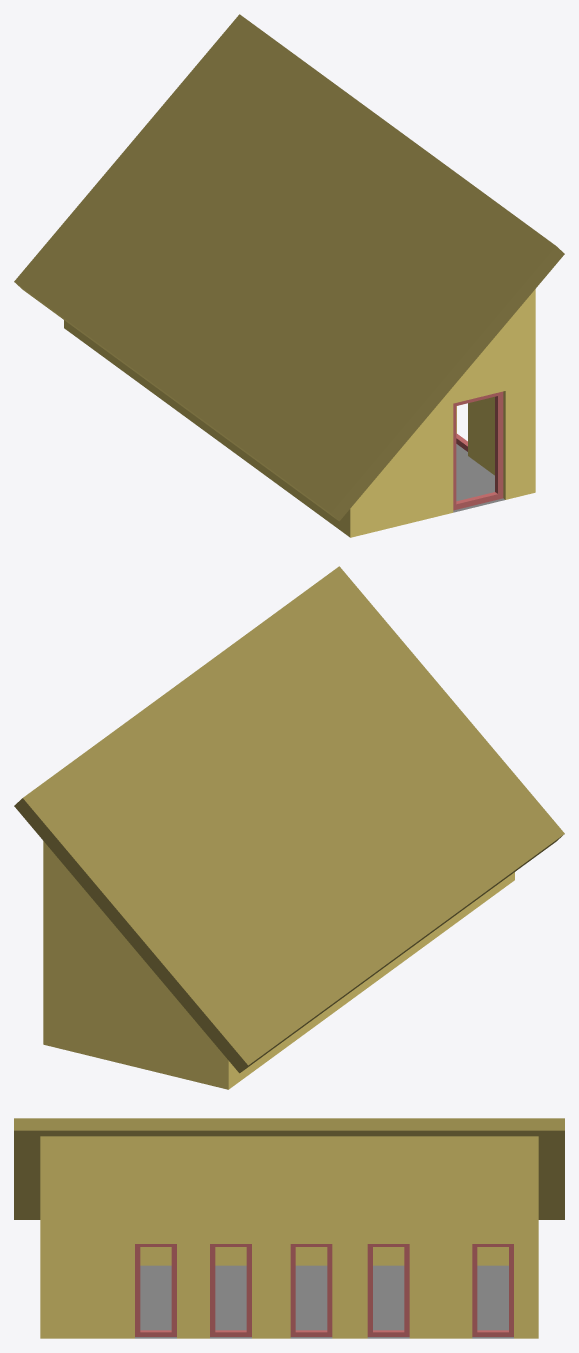
The model's file is result.glb.
The picture shows the model from 3 angles, top to bottom: view 1: azimuth 30°, elevation 25°; view 2: azimuth 150°, elevation 25°; view 3: azimuth 270°, elevation 25°; orthographic projection. The views are drawn at different scales.
Visible parts, largest first — view 1: 25782381-e7e2-43e0-9e87-715b7b359c5b__undefined, 5b07f644-e168-4a8a-bf53-29304d67ada4__undefined, adaa5149-9f0a-40ed-a261-3910334ac167__Box, 55f7afd8-d7cc-4679-b5c3-2c23fd5dd477__Plane_14; view 2: 25782381-e7e2-43e0-9e87-715b7b359c5b__undefined, 5b07f644-e168-4a8a-bf53-29304d67ada4__undefined; view 3: 5b07f644-e168-4a8a-bf53-29304d67ada4__undefined, 25782381-e7e2-43e0-9e87-715b7b359c5b__undefined, 55f7afd8-d7cc-4679-b5c3-2c23fd5dd477__Plane_14, e895bb37-e18d-4439-ae89-6ed09be2b12b__Box_33, 4cd462ab-377b-4006-8309-c0515e223b2c__Box_36, 524bd92f-36c9-415f-8ecf-a5e509055099__Box_27, c5dab6a2-4dbd-4859-a47c-e2ee1a523e1b__Box_30, 734778a2-1f67-47ca-a0d1-98f273828289__Box_39.
Part boxes in pixels (x1,y1,x2,y2): 25782381-e7e2-43e0-9e87-715b7b359c5b__undefined: (14,14,564,521); 5b07f644-e168-4a8a-bf53-29304d67ada4__undefined: (64,289,535,537); adaa5149-9f0a-40ed-a261-3910334ac167__Box: (453,391,503,510); 55f7afd8-d7cc-4679-b5c3-2c23fd5dd477__Plane_14: (453,444,504,512); 25782381-e7e2-43e0-9e87-715b7b359c5b__undefined: (14,566,564,1073); 5b07f644-e168-4a8a-bf53-29304d67ada4__undefined: (43,841,514,1089); 5b07f644-e168-4a8a-bf53-29304d67ada4__undefined: (40,1136,538,1338); 25782381-e7e2-43e0-9e87-715b7b359c5b__undefined: (14,1118,564,1219); 55f7afd8-d7cc-4679-b5c3-2c23fd5dd477__Plane_14: (135,1265,513,1338); e895bb37-e18d-4439-ae89-6ed09be2b12b__Box_33: (290,1244,332,1336); 4cd462ab-377b-4006-8309-c0515e223b2c__Box_36: (367,1244,409,1336); 524bd92f-36c9-415f-8ecf-a5e509055099__Box_27: (135,1244,176,1336); c5dab6a2-4dbd-4859-a47c-e2ee1a523e1b__Box_30: (210,1244,251,1336); 734778a2-1f67-47ca-a0d1-98f273828289__Box_39: (472,1244,513,1336).
Size of the model in its own units: 449 by 470 by 1052.
